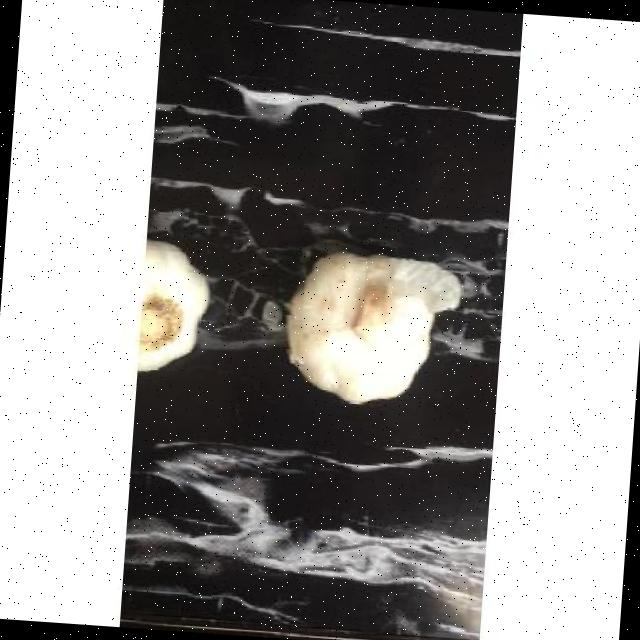garlic: (287, 252, 460, 403), (137, 240, 209, 370)
